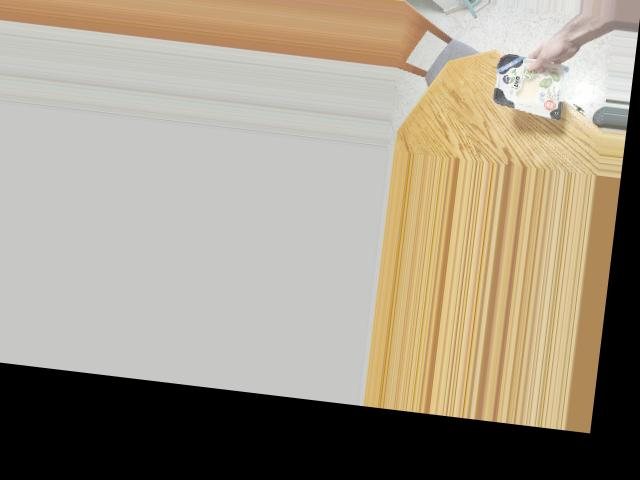cheese: (483, 47, 583, 112)
